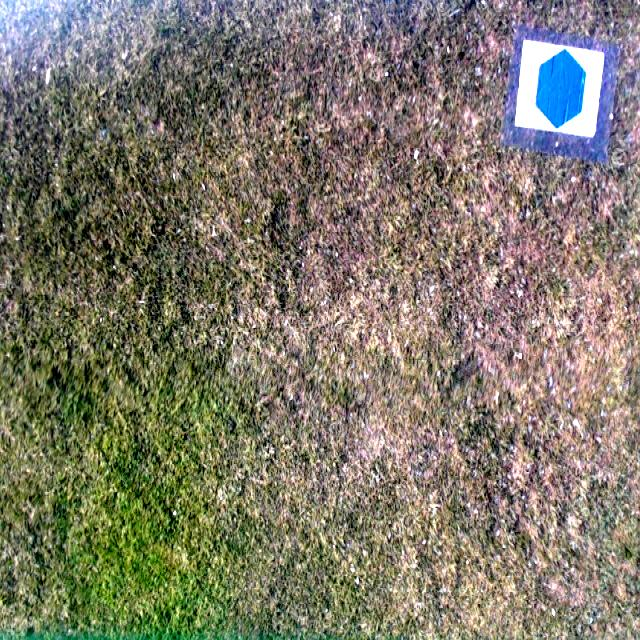blue_hexagon: (536, 47, 588, 137)
